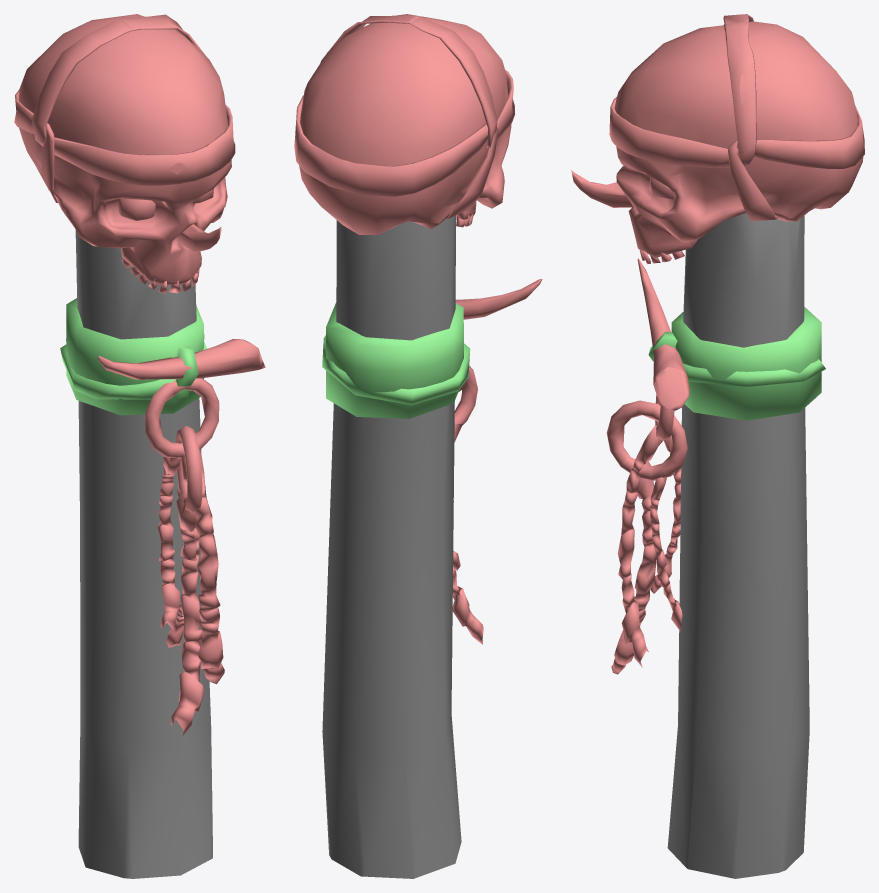
The model's file is arena_deco_generic_arena_f.gltf.
3 renders of one model, left to right at view 1: azimuth 30°, elevation 25°; view 2: azimuth 150°, elevation 25°; view 3: azimuth 270°, elevation 25°, orthographic. The views are drawn at different scales.
Visible parts, largest first — view 1: arena_deco_generic_arena_f; view 2: arena_deco_generic_arena_f; view 3: arena_deco_generic_arena_f.
Boxes of the visible parts, x1=… form: arena_deco_generic_arena_f: x1=14, y1=14, x2=265, y2=878; arena_deco_generic_arena_f: x1=294, y1=14, x2=542, y2=878; arena_deco_generic_arena_f: x1=571, y1=14, x2=864, y2=878.
Bounding box in the file's own units: 0.1632 × 0.6897 × 0.2237.
